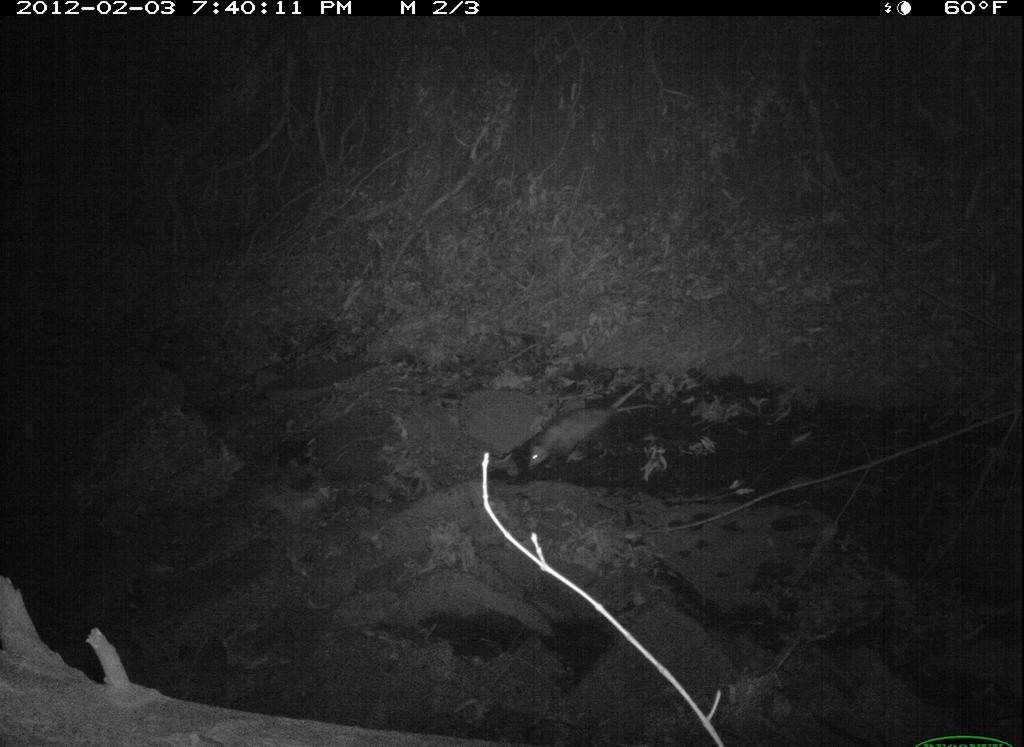opossum: (525, 396, 660, 475)
